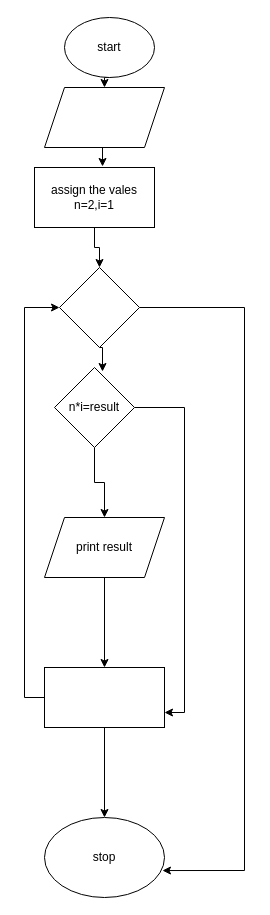
The diagram is 270 pixels wide and 915 high, and some of its shapes have lost their labels. Here are the shapes that lost their labels. From the top down, the centre of each, then its label:
the point at 104,117: intilaized i,n,result
the point at 99,307: i<=11
the point at 104,697: n=n+1
